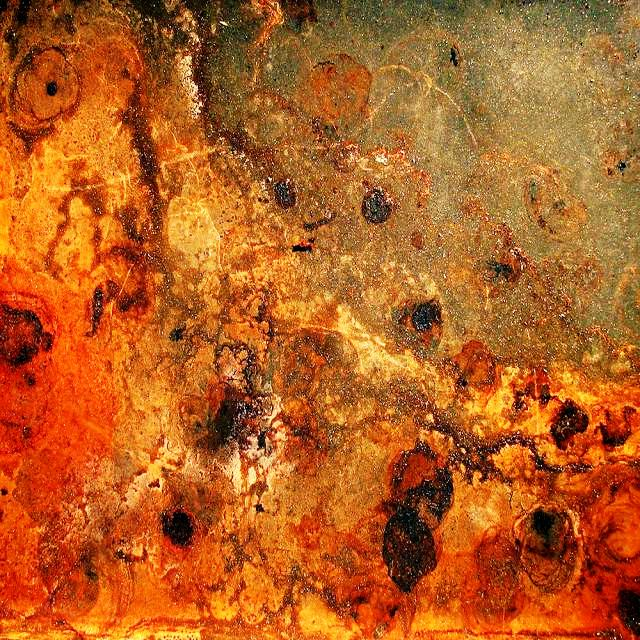Corrosion: (0, 0, 640, 640), (310, 117, 415, 174), (525, 164, 588, 238), (480, 222, 528, 296), (591, 326, 640, 374), (250, 0, 317, 30), (361, 188, 392, 224), (411, 300, 443, 334), (272, 178, 296, 208), (603, 150, 630, 176)
